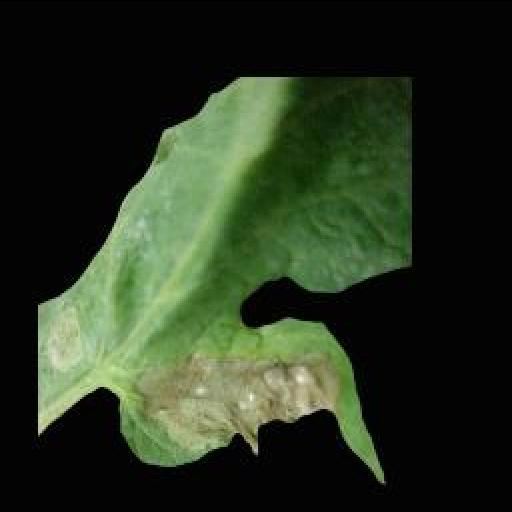disease_tomato: (37, 75, 415, 481)
